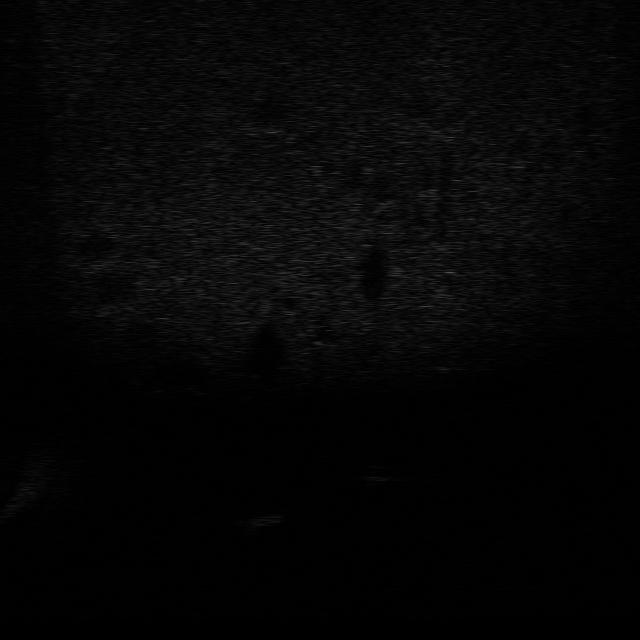ball: (349, 462, 400, 486)
square cage: (230, 508, 290, 539)
tyre: (420, 346, 471, 375)
